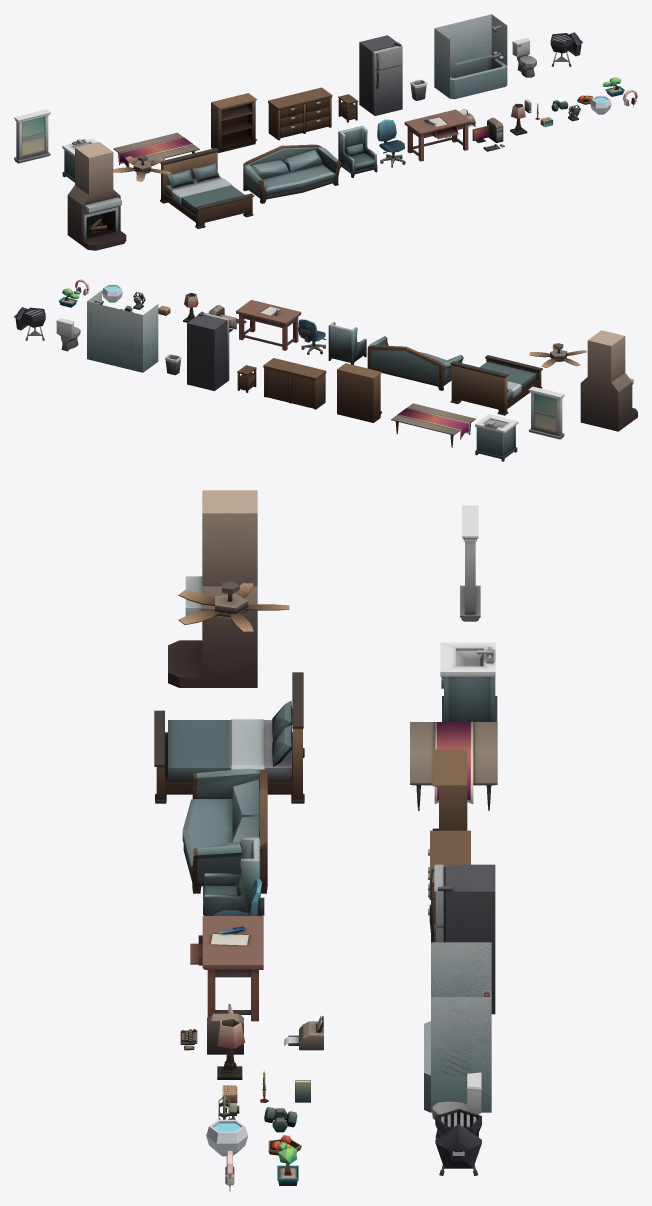
File: householdpropsset.fbx
The picture shows the model from 3 angles, top to bottom: view 1: azimuth 30°, elevation 25°; view 2: azimuth 150°, elevation 25°; view 3: azimuth 270°, elevation 25°; orthographic projection. The views are drawn at different scales.
Parts seen in each view (by area): view 1: tub, fireplace, bed, couch, fridge, dresser, shelf, desk, window, table, armchair, computerchair (+5 smaller); view 2: fireplace, tub, bed, fridge, couch, dresser, shelf, desk, table, vanity, window, armchair (+9 smaller); view 3: fireplace, bed, tub, couch, fridge, desk, table, vanity, armchair, shelf, grill, window (+5 smaller).
Part boxes in pixels (x1=…): tub: x1=434, y1=14, x2=507, y2=99; fireplace: x1=67, y1=142, x2=126, y2=250; bed: x1=160, y1=148, x2=254, y2=228; couch: x1=243, y1=144, x2=341, y2=203; fridge: x1=359, y1=35, x2=402, y2=115; dresser: x1=268, y1=87, x2=332, y2=140; shelf: x1=211, y1=93, x2=257, y2=153; desk: x1=404, y1=109, x2=471, y2=161; window: x1=14, y1=109, x2=50, y2=163; table: x1=113, y1=132, x2=199, y2=174; armchair: x1=338, y1=125, x2=377, y2=177; computerchair: x1=377, y1=119, x2=405, y2=167; fireplace: x1=580, y1=330, x2=637, y2=431; tub: x1=87, y1=290, x2=158, y2=372; bed: x1=450, y1=355, x2=542, y2=415; fridge: x1=187, y1=311, x2=229, y2=390; couch: x1=367, y1=336, x2=463, y2=390; dresser: x1=263, y1=358, x2=326, y2=409; shelf: x1=337, y1=363, x2=382, y2=422; desk: x1=236, y1=300, x2=301, y2=350; table: x1=391, y1=403, x2=475, y2=447; vanity: x1=475, y1=414, x2=518, y2=461; window: x1=528, y1=386, x2=564, y2=439; armchair: x1=328, y1=322, x2=366, y2=364; fireplace: x1=168, y1=490, x2=257, y2=687; bed: x1=154, y1=672, x2=304, y2=803; tub: x1=424, y1=942, x2=491, y2=1112; couch: x1=182, y1=768, x2=267, y2=893; fridge: x1=429, y1=864, x2=495, y2=1014; desk: x1=190, y1=916, x2=263, y2=1021; table: x1=410, y1=722, x2=497, y2=810; vanity: x1=440, y1=642, x2=497, y2=721; armchair: x1=203, y1=837, x2=259, y2=915; shelf: x1=432, y1=749, x2=467, y2=830; grill: x1=435, y1=1109, x2=481, y2=1175; window: x1=460, y1=505, x2=480, y2=621.
Bounding box in the file's own units: 4960 × 751 × 1335.
